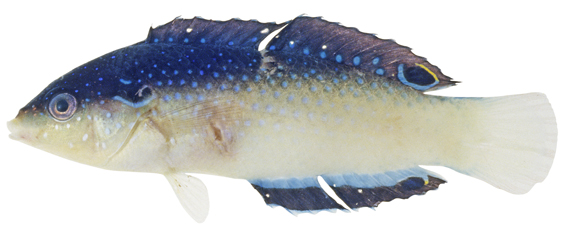fish: (8, 16, 557, 221)
